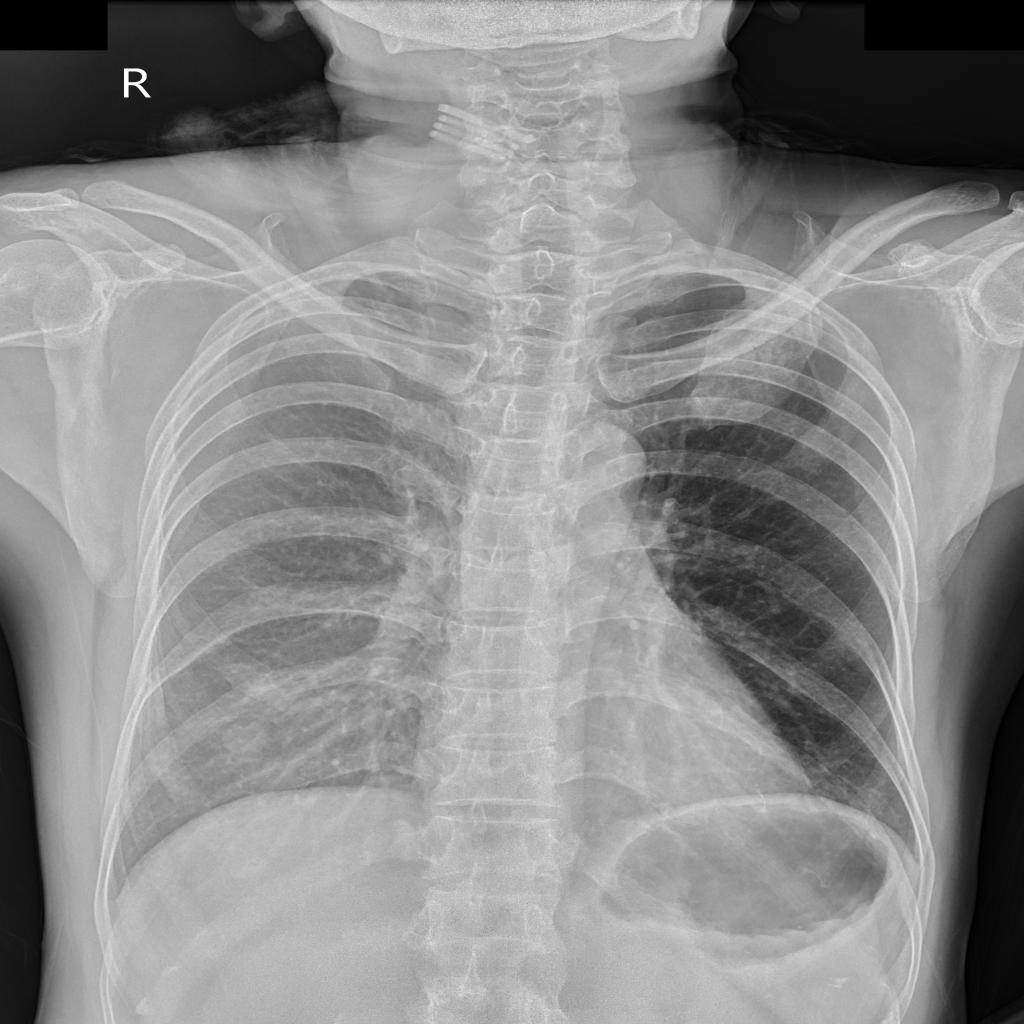Nodule: (225, 718, 265, 753)
